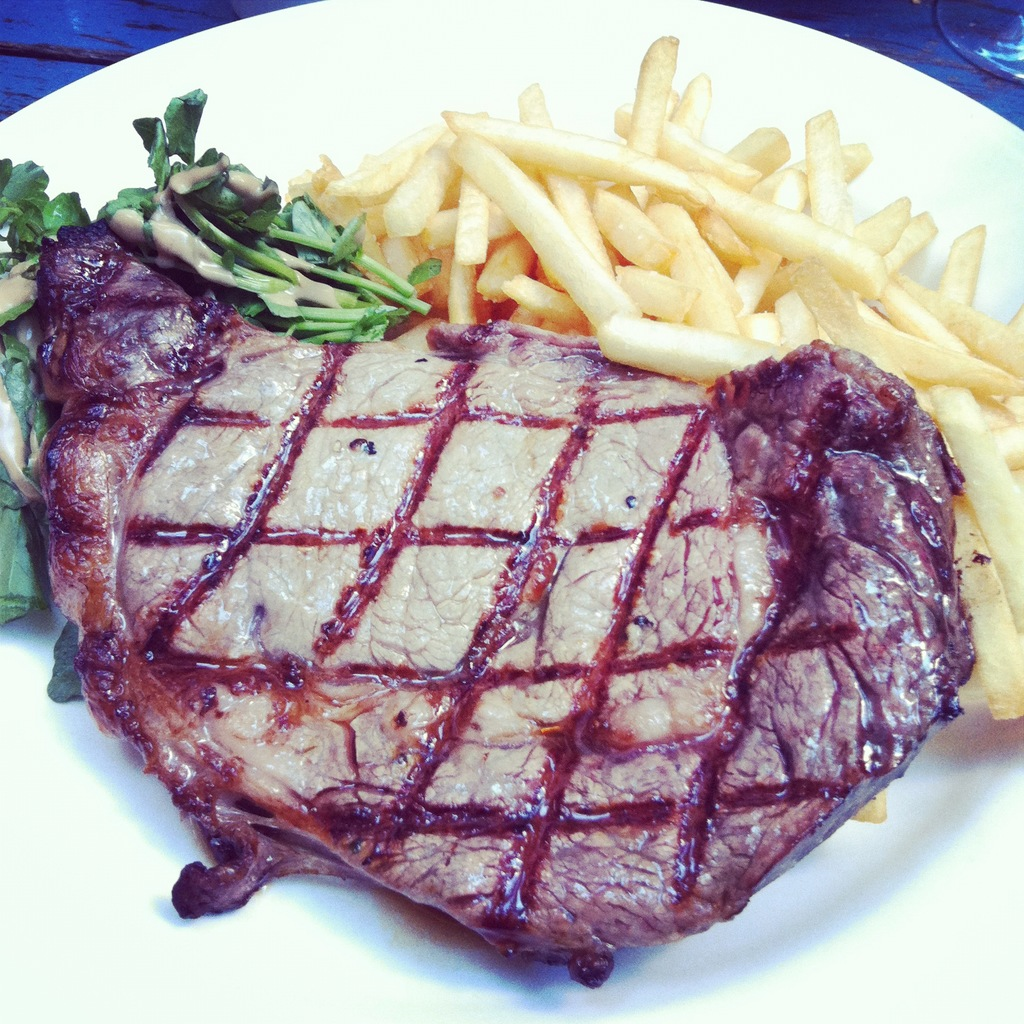French fries: (284, 35, 1024, 823)
